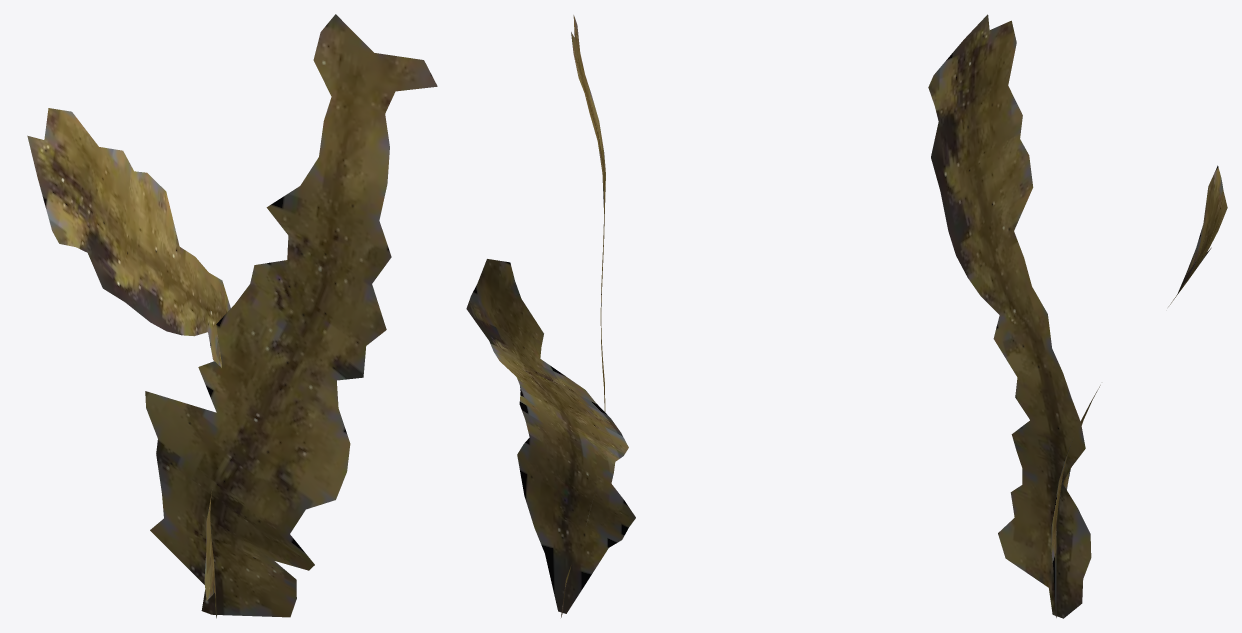
The model's file is Seaweed_C1-transformed.glb.
3 views of the same model, side by side, from view 1: azimuth 30°, elevation 25°; view 2: azimuth 150°, elevation 25°; view 3: azimuth 270°, elevation 25° (orthographic). The views are drawn at different scales.
Visible parts, largest first — view 1: Seaweed_C1; view 2: Seaweed_C1; view 3: Seaweed_C1.
Boxes of the visible parts, x1,y1,x2,y2 form: Seaweed_C1: (27, 14, 437, 618); Seaweed_C1: (466, 15, 635, 617); Seaweed_C1: (928, 14, 1227, 618).
Size of the model in its own units: 0.2671 by 0.4843 by 0.2968.
Materials: 1 (1 with a texture image).
